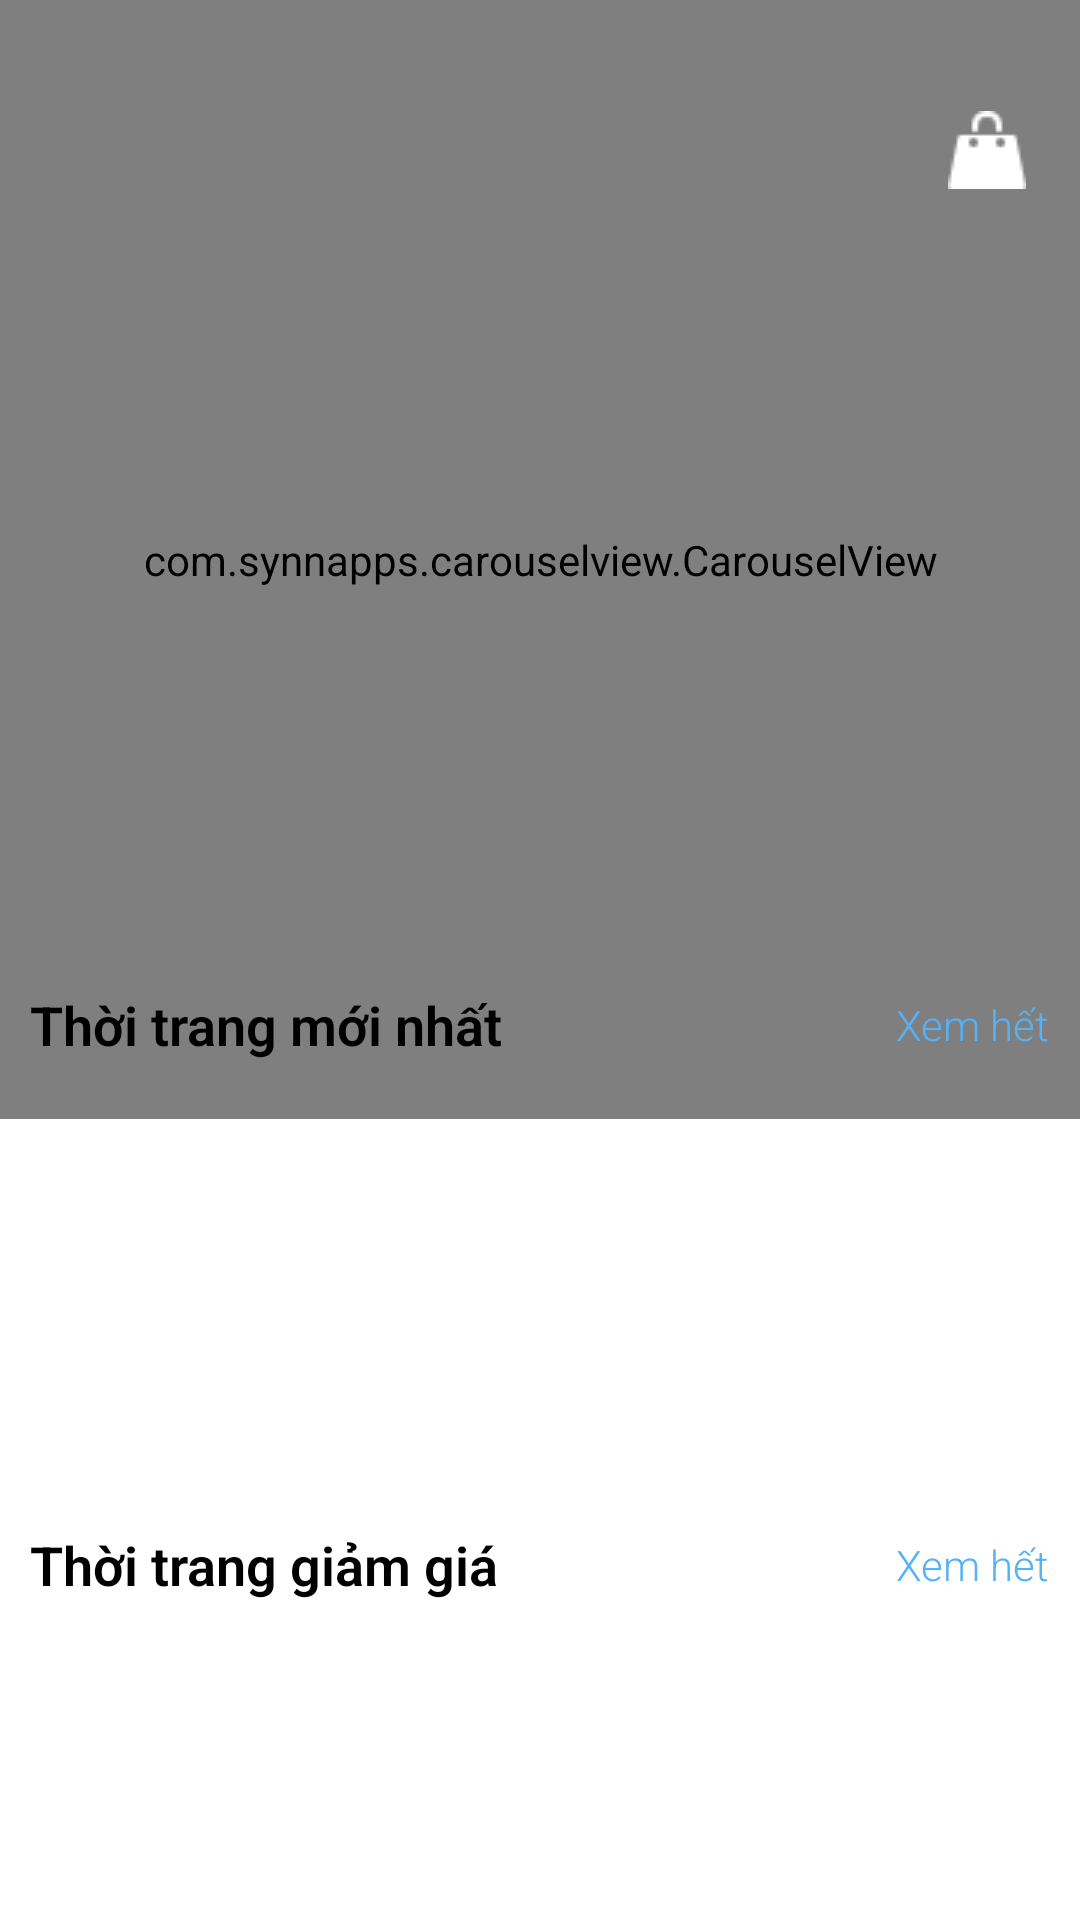

Named icons in this screenshot (1080px×1920px) and their centers, point (x, y):
shop: point (987, 150)
